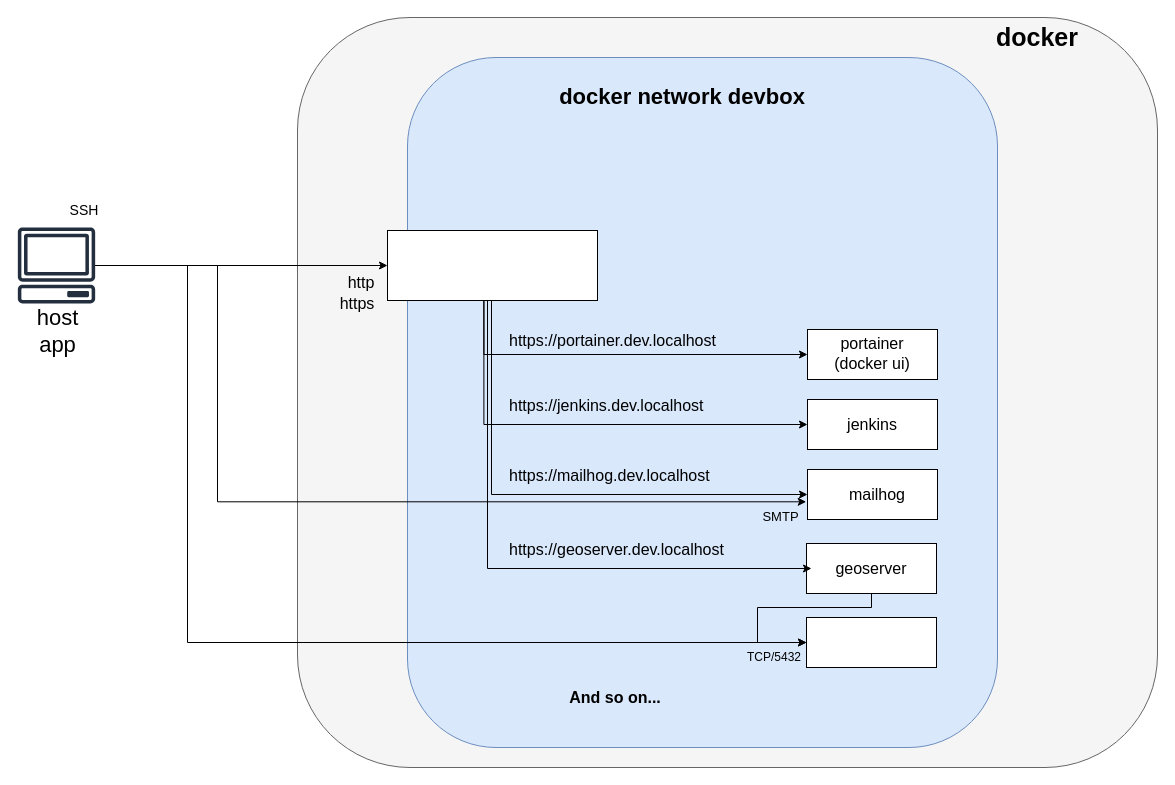
This 1175x785 diagram has some shape labels left out. Each missing label, with the centre of its shape:
postgis: (x=871, y=642)
traefik (reverse proxy): (x=492, y=265)
